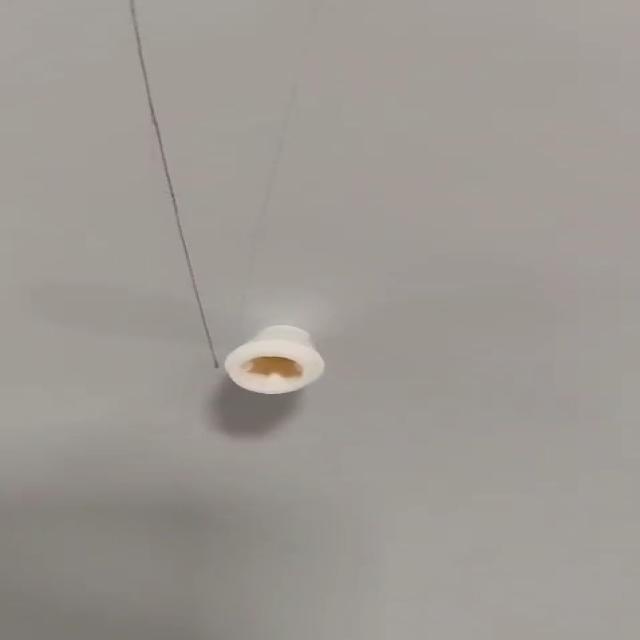Z1x1x1: (217, 325, 331, 397)
